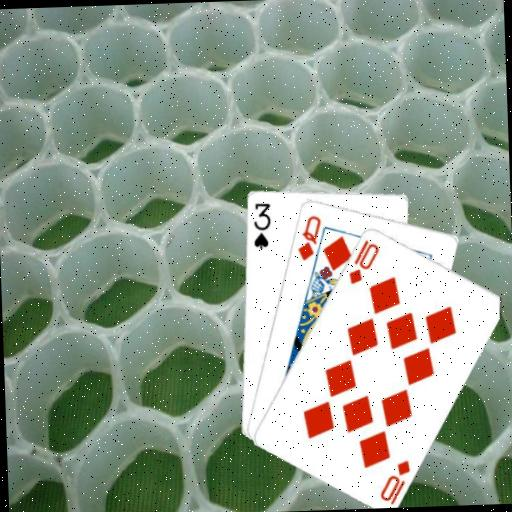10D: (344, 236, 382, 286), (375, 456, 413, 506)
3S: (249, 199, 273, 250)
QD: (293, 211, 324, 262)
